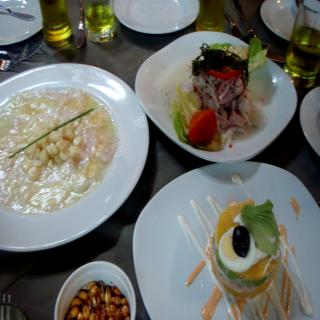Salad: (168, 40, 266, 153)
Tomato: (191, 102, 221, 140)
